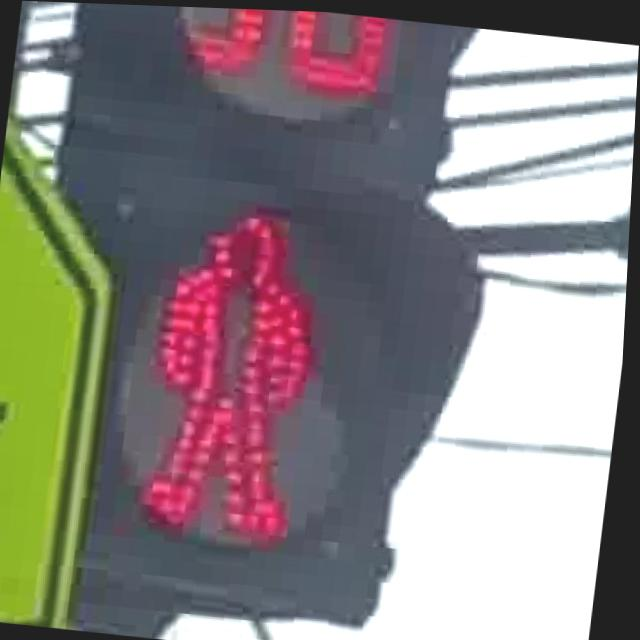red_light: (132, 183, 362, 555)
